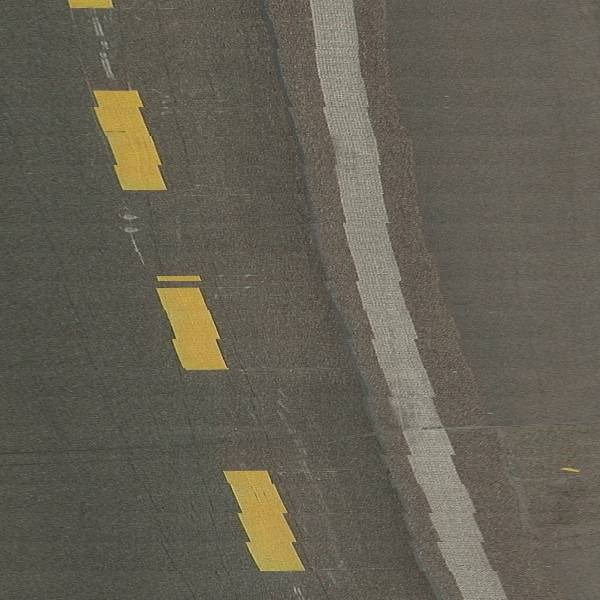road_damage: (481, 412, 600, 557)
